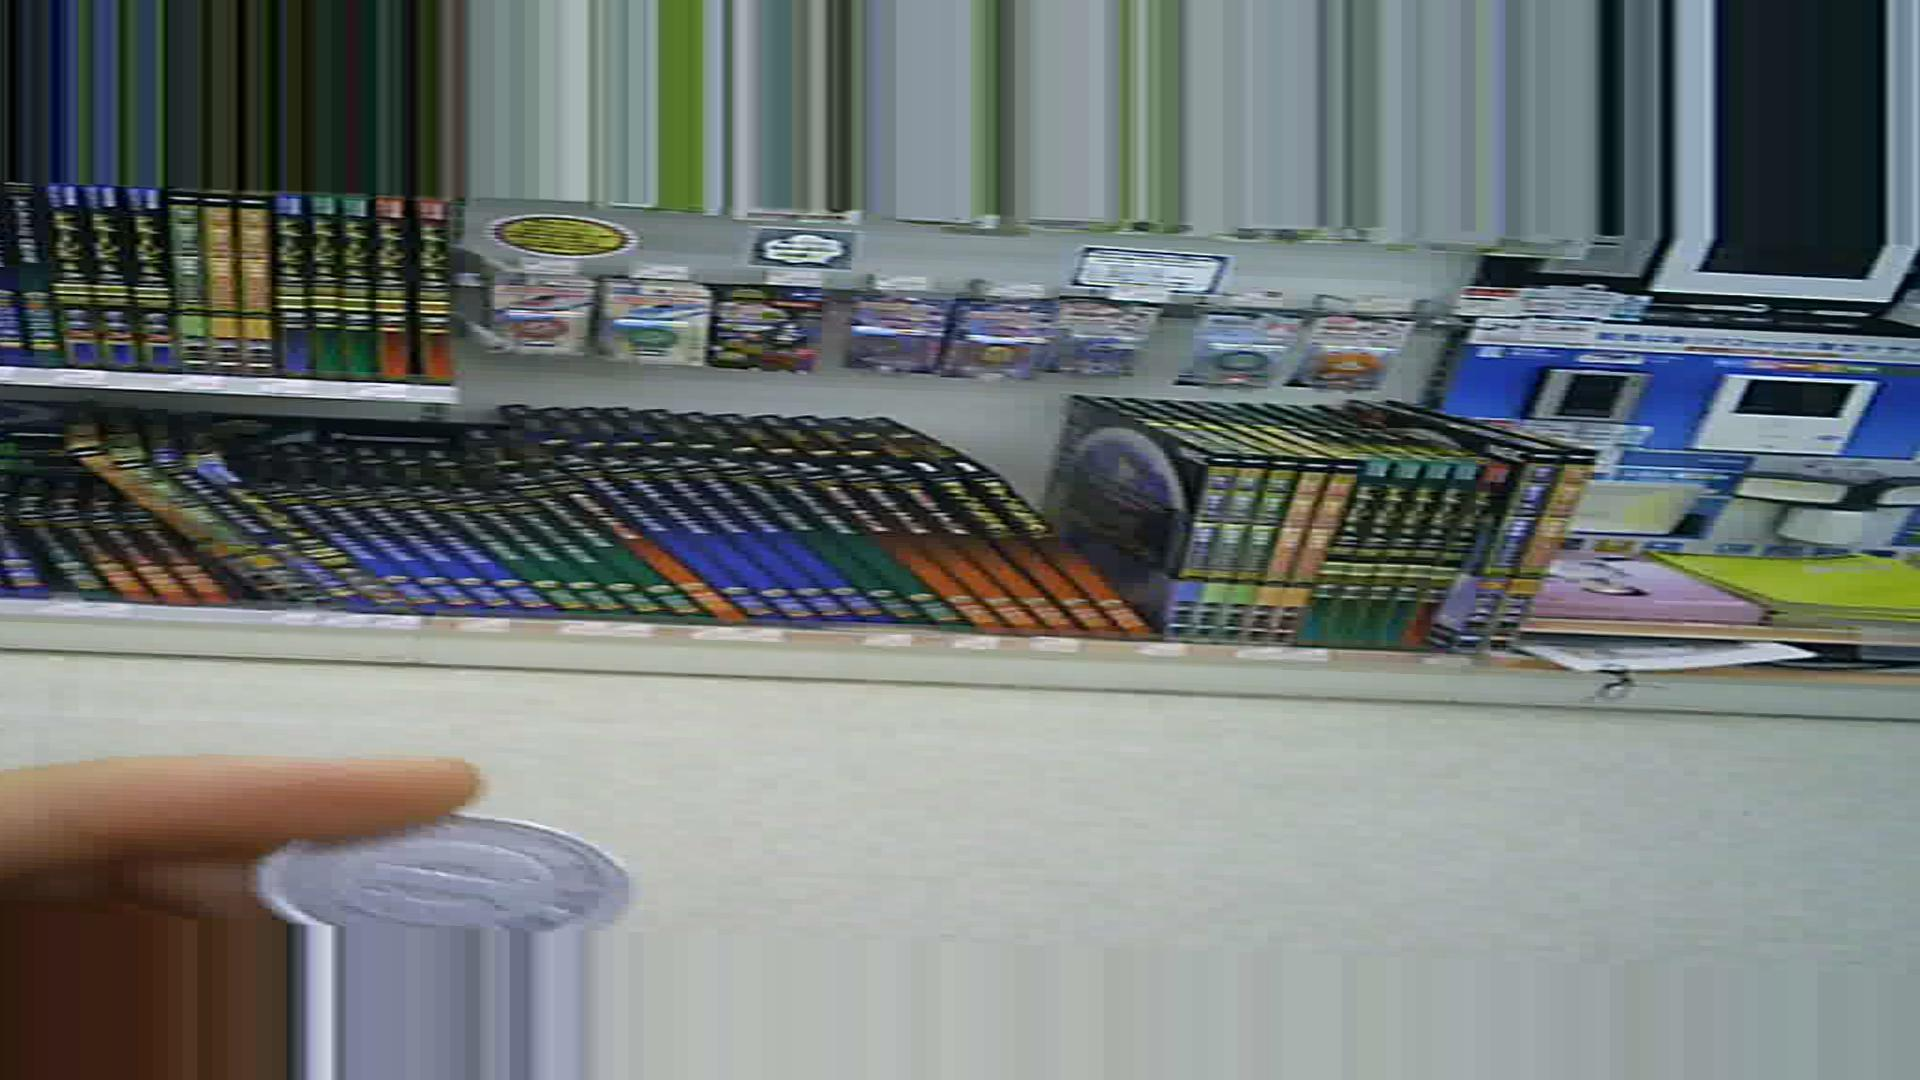1 Yen: (243, 795, 650, 940)
